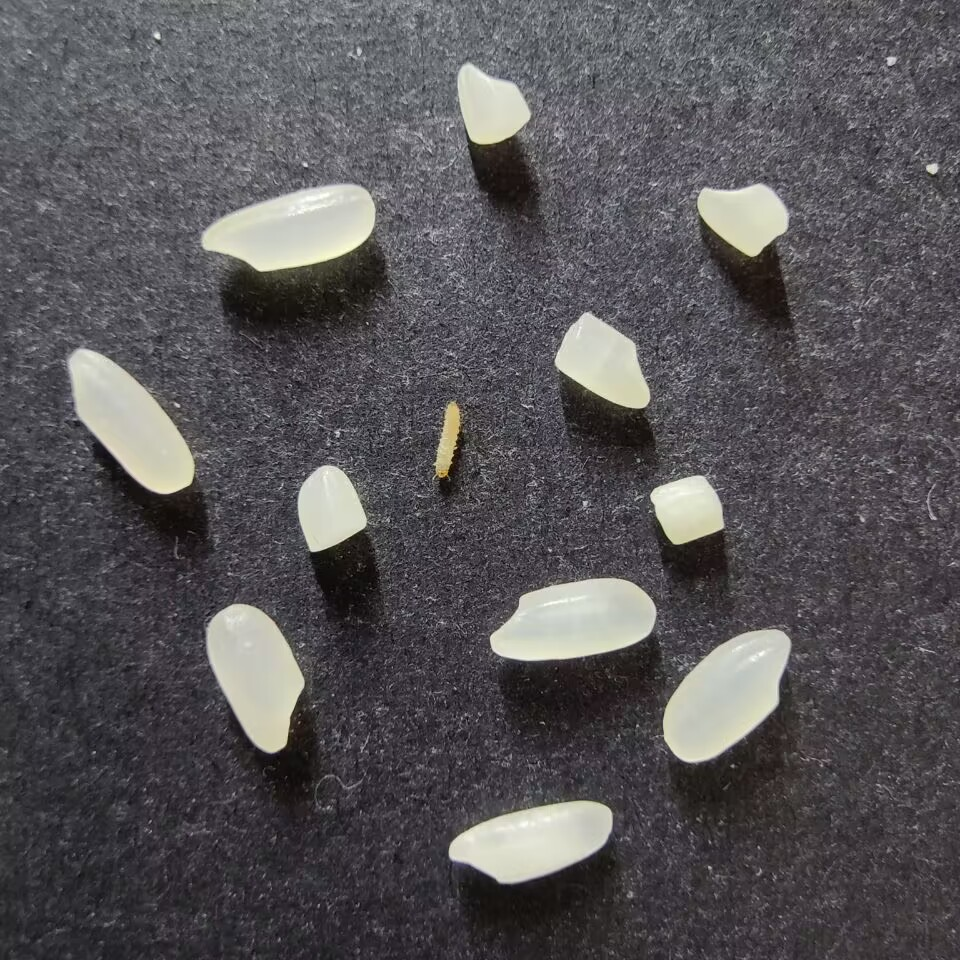broken: (553, 312, 651, 409), (696, 184, 790, 257), (296, 464, 367, 553), (456, 62, 531, 144), (649, 474, 725, 546)
others: (428, 399, 460, 482)
rice: (67, 348, 194, 494), (661, 628, 791, 763), (200, 183, 376, 272), (205, 603, 304, 753), (447, 801, 612, 884), (489, 578, 656, 660)
